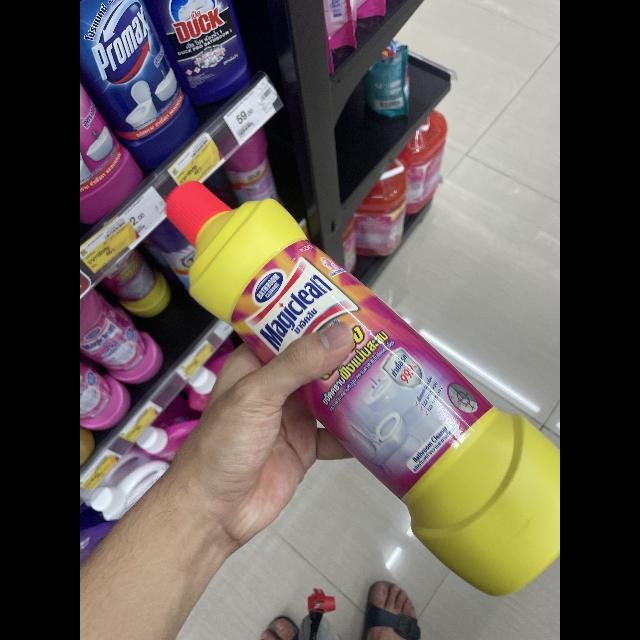chemical_plastic_bottle: (158, 175, 560, 605)
